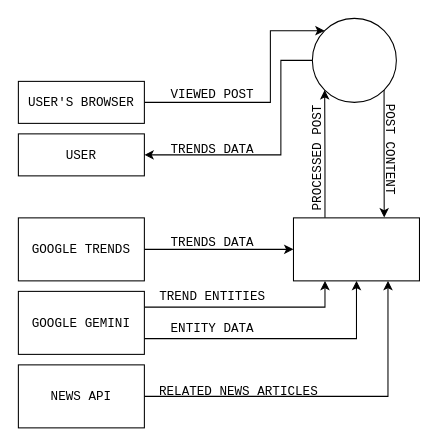
Some shapes in this 438 by 446 pixel diagram are drawn without their labels. Here are the shapes that lost their labels. From the top down, the centre of each, then its label:
(353,59): EXTENSION
(355,249): ANALYSIS SYSTEM
